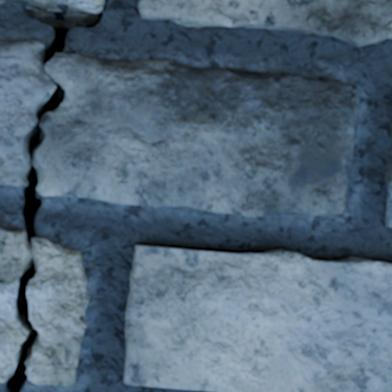brick: (124, 245, 391, 391), (138, 0, 391, 45), (33, 0, 104, 11), (384, 149, 391, 226)
broken_brick: (37, 52, 359, 217), (28, 237, 90, 387), (0, 40, 53, 186), (0, 226, 25, 383)
crack: (2, 0, 103, 391), (383, 20, 391, 27)
